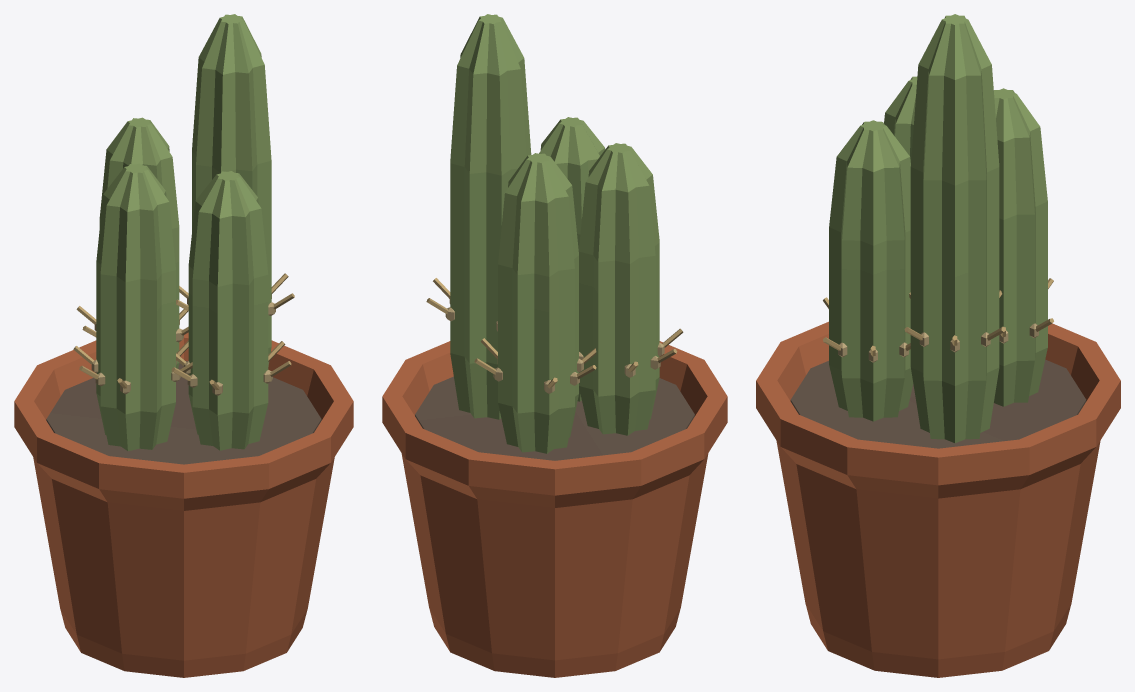
File: new-elongata.glb
3 renders of one model, left to right at view 1: azimuth 30°, elevation 25°; view 2: azimuth 150°, elevation 25°; view 3: azimuth 270°, elevation 25°, orthographic. The views are drawn at different scales.
Parts seen in each view (by area): view 1: new-elongata/review-terra-vessel, new-elongata/ribbed-stem-027, new-elongata/ribbed-stem-040, new-elongata/ribbed-stem-001, new-elongata/review-rooted-soil, new-elongata/ribbed-stem-014; view 2: new-elongata/review-terra-vessel, new-elongata/ribbed-stem-001, new-elongata/ribbed-stem-014, new-elongata/ribbed-stem-027, new-elongata/review-rooted-soil, new-elongata/ribbed-stem-040; view 3: new-elongata/review-terra-vessel, new-elongata/ribbed-stem-001, new-elongata/ribbed-stem-040, new-elongata/ribbed-stem-014, new-elongata/review-rooted-soil, new-elongata/ribbed-stem-027.
Boxes of the visible parts, x1,y1,x2,y2 form: new-elongata/review-terra-vessel: (14, 332, 353, 677); new-elongata/ribbed-stem-027: (96, 163, 175, 451); new-elongata/ribbed-stem-040: (188, 171, 268, 450); new-elongata/ribbed-stem-001: (192, 14, 271, 364); new-elongata/review-rooted-soil: (46, 361, 321, 464); new-elongata/ribbed-stem-014: (99, 117, 179, 368); new-elongata/review-terra-vessel: (382, 341, 727, 677); new-elongata/ribbed-stem-001: (450, 14, 531, 419); new-elongata/ribbed-stem-014: (498, 153, 578, 453); new-elongata/ribbed-stem-027: (578, 143, 659, 435); new-elongata/review-rooted-soil: (415, 376, 694, 460); new-elongata/ribbed-stem-040: (539, 117, 605, 401); new-elongata/review-terra-vessel: (756, 321, 1120, 677); new-elongata/ribbed-stem-001: (910, 14, 999, 443); new-elongata/ribbed-stem-040: (829, 120, 913, 421); new-elongata/ribbed-stem-014: (994, 88, 1047, 406); new-elongata/review-rooted-soil: (790, 359, 1086, 448); new-elongata/ribbed-stem-027: (884, 76, 917, 162).
Bounding box in the file's own units: 0.19 × 0.3642 × 0.19.
5 materials, 5 textured.
